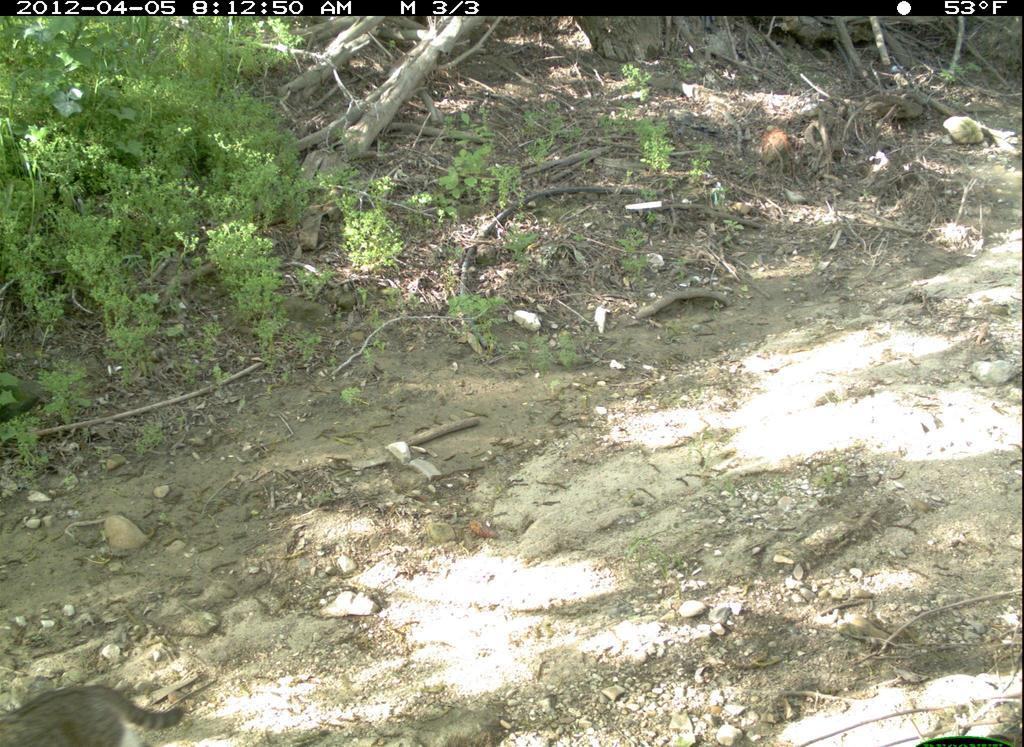cat: (2, 646, 191, 744)
